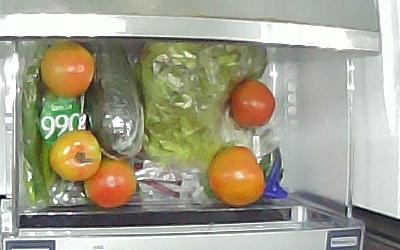tomato: (205, 145, 265, 206), (39, 40, 95, 97), (47, 129, 101, 181), (82, 158, 137, 208), (228, 77, 275, 128)
